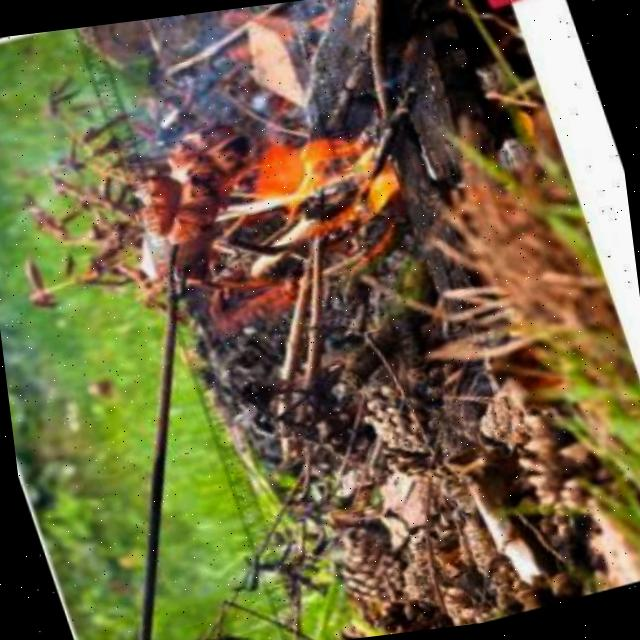fire: (110, 104, 546, 640)
